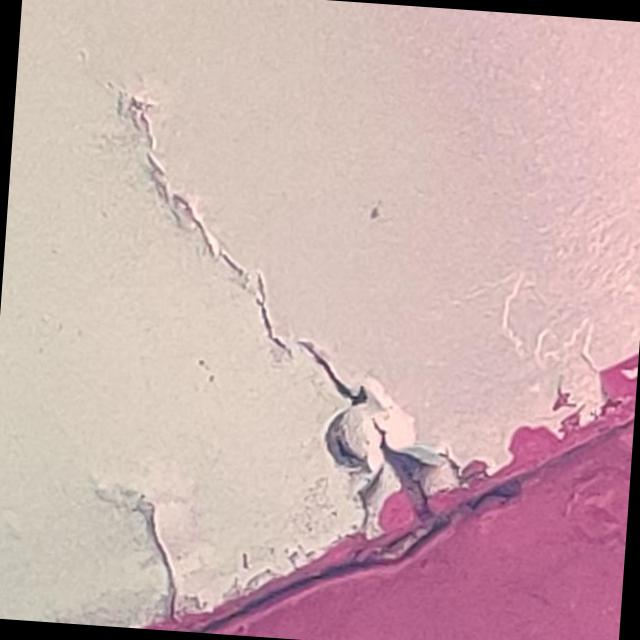Crack: (296, 341, 461, 539), (131, 495, 178, 620)
